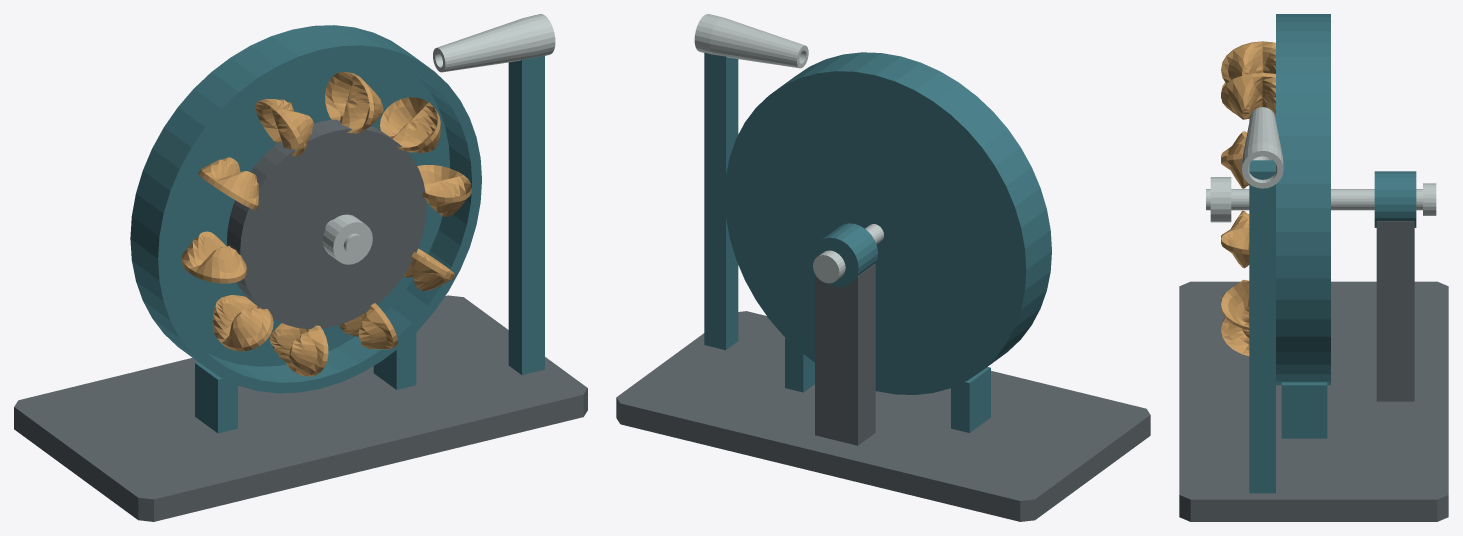
The picture shows the model from 3 angles, left to right: view 1: azimuth 30°, elevation 25°; view 2: azimuth 150°, elevation 25°; view 3: azimuth 270°, elevation 25°; orthographic projection. The views are drawn at different scales.
Parts seen in each view (by area): view 1: WholeGroundBed, WholeOpenFrontCircularCase, WholeRunnerDisk, WholeAnnularRearPlate, WholeNozzleBracket, WholeTaperedOpenTangentialNozzle, WholeSplitBucket6, WholeSplitBucket1, WholeSplitBucket2, WholeSplitBucket5, WholeCaseFoot0, WholeSplitBucket7 (+7 smaller); view 2: WholeAnnularRearPlate, WholeGroundBed, WholeOpenFrontCircularCase, WholeRearPedestal, WholeNozzleBracket, WholeTaperedOpenTangentialNozzle, WholeRearBoredBearing, WholeCaseFoot0, WholeCaseFoot1, WholeRearRetainer; view 3: WholeGroundBed, WholeOpenFrontCircularCase, WholeNozzleBracket, WholeRearPedestal, WholeCaseFoot1, WholeTaperedOpenTangentialNozzle, WholeRearBoredBearing, WholeSplitBucket2, WholeSplitBucket3, WholeShaft, WholeSplitBucket9, WholeProudFrontHub (+4 smaller).
Part boxes in pixels (x1,y1,x2,y2): WholeGroundBed: (14,295,587,521); WholeOpenFrontCircularCase: (130,25,481,393); WholeRunnerDisk: (227,119,426,329); WholeAnnularRearPlate: (168,56,450,366); WholeNozzleBracket: (508,55,544,374); WholeTaperedOpenTangentialNozzle: (433,14,555,72); WholeSplitBucket6: (212,295,273,351); WholeSplitBucket1: (380,97,440,153); WholeSplitBucket2: (325,72,383,133); WholeSplitBucket5: (182,231,246,283); WholeCaseFoot0: (195,362,237,433); WholeSplitBucket7: (270,323,328,376); WholeAnnularRearPlate: (729,76,1021,389); WholeGroundBed: (616,311,1150,521); WholeOpenFrontCircularCase: (724,52,1051,394); WholeRearPedestal: (815,263,875,445); WholeNozzleBracket: (704,52,738,350); WholeTaperedOpenTangentialNozzle: (694,14,808,68); WholeRearBoredBearing: (812,223,877,287); WholeCaseFoot0: (951,367,990,432); WholeCaseFoot1: (785,338,814,392); WholeRearRetainer: (813,250,845,283); WholeGroundBed: (1179,281,1448,521); WholeOpenFrontCircularCase: (1276,14,1330,385); WholeNozzleBracket: (1249,160,1275,493); WholeRearPedestal: (1376,221,1414,401); WholeCaseFoot1: (1281,382,1327,438); WholeTaperedOpenTangentialNozzle: (1242,107,1283,188); WholeRearBoredBearing: (1374,171,1416,227); WholeSplitBucket2: (1221,73,1275,119); WholeSplitBucket3: (1221,41,1275,83); WholeShaft: (1206,189,1422,210); WholeSplitBucket9: (1221,281,1249,329); WholeProudFrontHub: (1210,177,1231,222).
Size of the model in its own units: 1.36 by 1.11 by 0.71.
